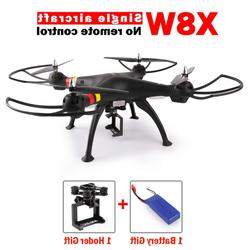drone: (4, 53, 245, 164)
